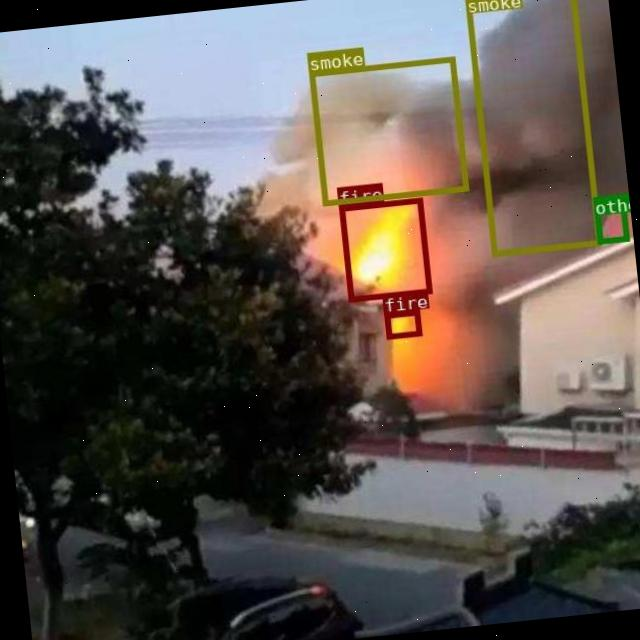fire: (338, 197, 431, 301), (384, 308, 422, 338)
smoke: (463, 0, 600, 255), (308, 56, 467, 206)
